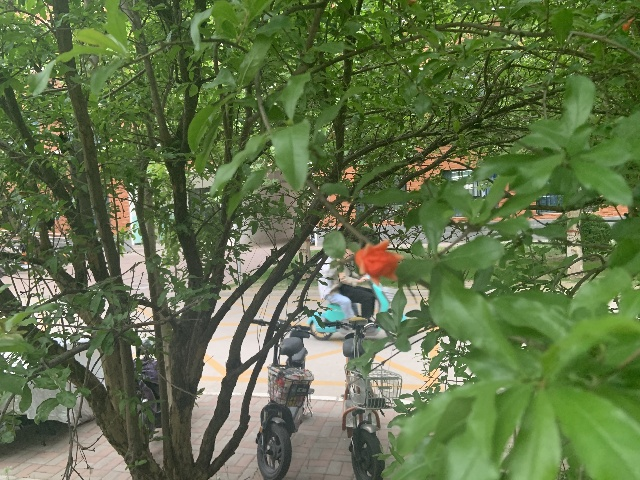flower: (354, 239, 404, 285)
